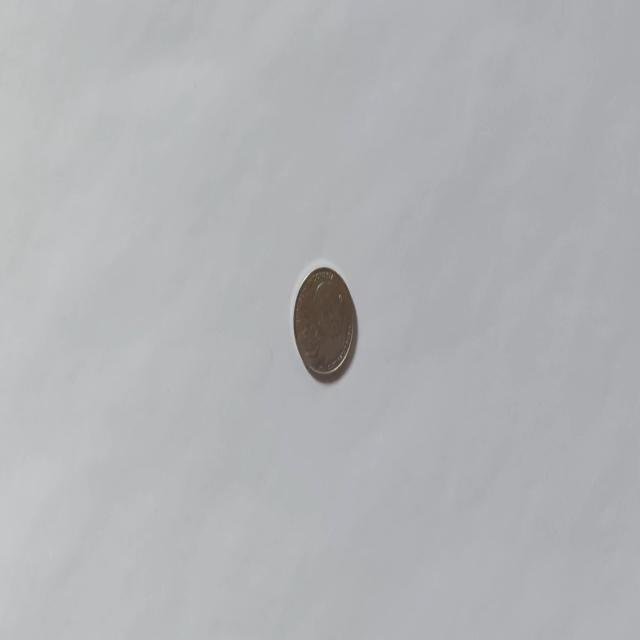seribu rupiah koin: (292, 263, 356, 382)
